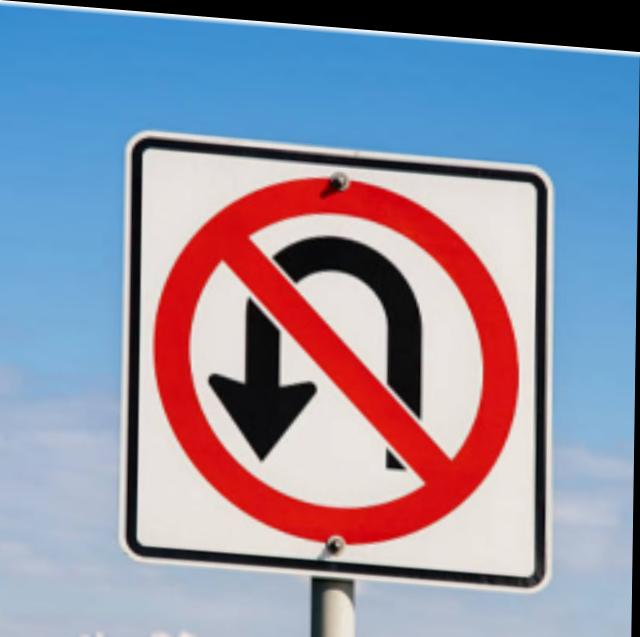not_u_turn_left: (145, 144, 533, 558)
